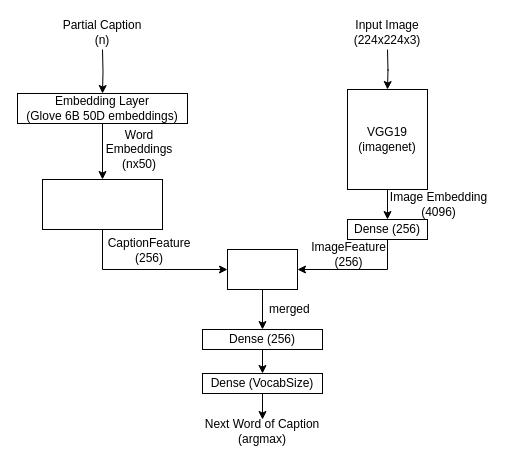
Some shapes in this 508 by 463 pixel diagram are drawn without their labels. Here are the shapes that lost their labels. From the top down, the centre of each, then its label:
point (102, 204): LSTM
point (262, 269): Add (512)
